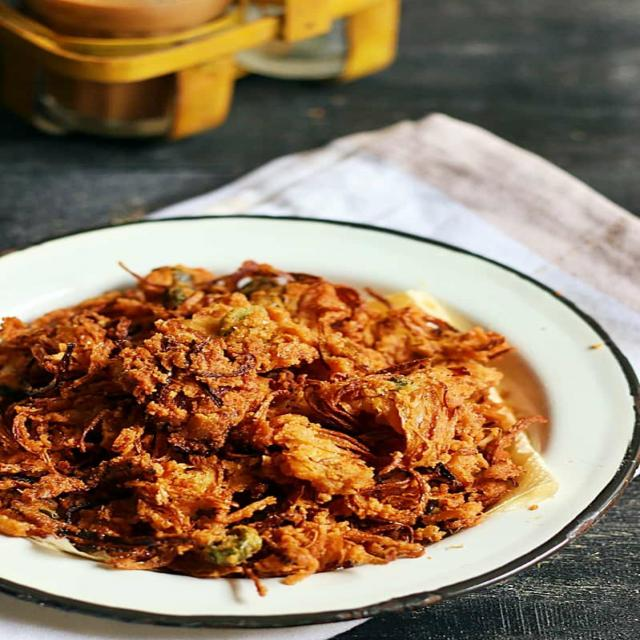Onion Pakora: (0, 252, 548, 580)
